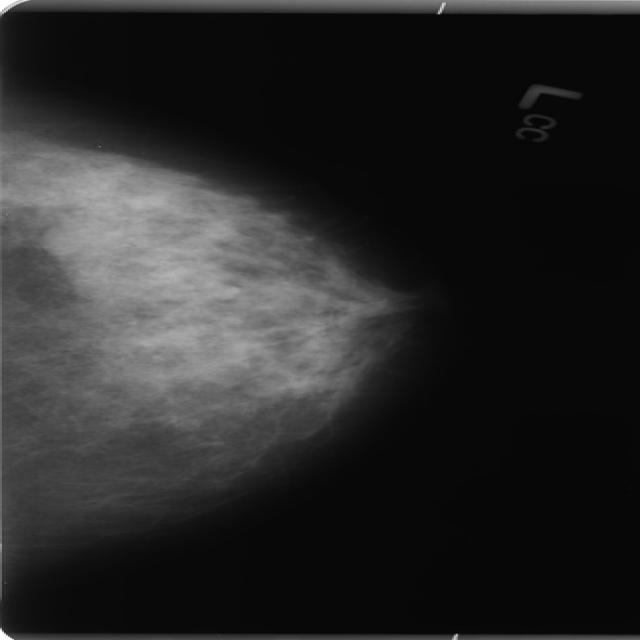tumour: (36, 220, 89, 252)
